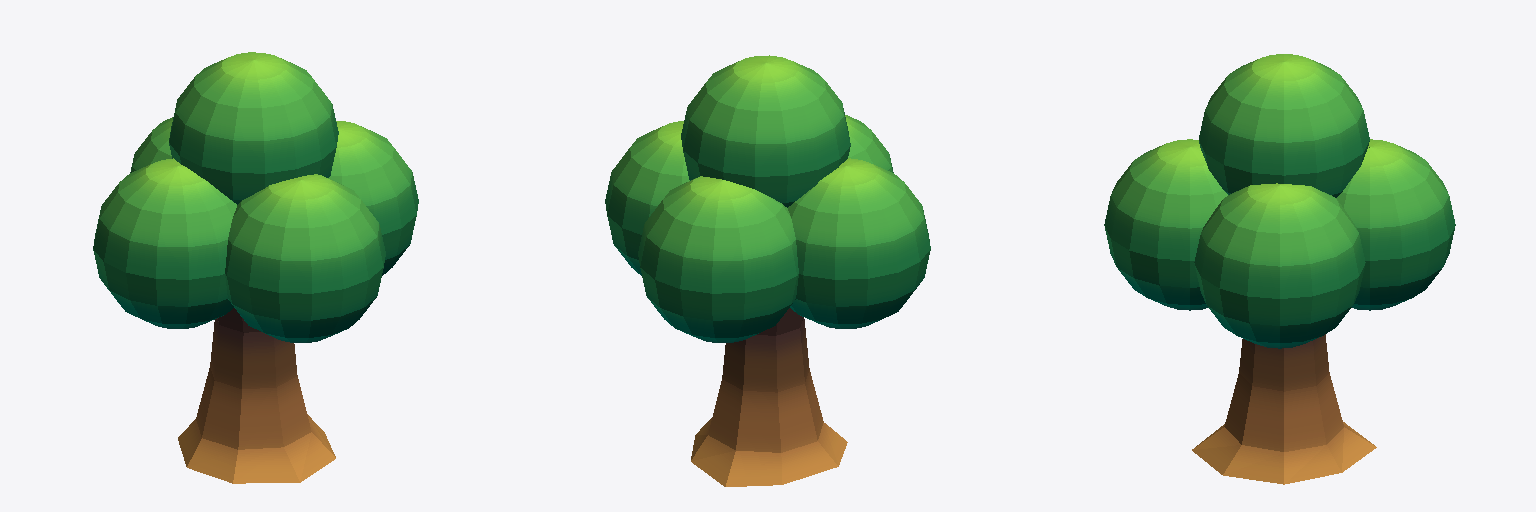
3 renders of one model, left to right at view 1: azimuth 30°, elevation 25°; view 2: azimuth 150°, elevation 25°; view 3: azimuth 270°, elevation 25°, orthographic.
Visible parts, largest first — view 1: Tree_Sphere; view 2: Tree_Sphere; view 3: Tree_Sphere.
Part boxes in pixels (bbox=[...]): Tree_Sphere: bbox=[93, 52, 418, 483]; Tree_Sphere: bbox=[605, 55, 930, 486]; Tree_Sphere: bbox=[1104, 54, 1455, 484].
Size of the model in its own units: 4.1 by 5 by 4.1.
1 materials, 1 textured.